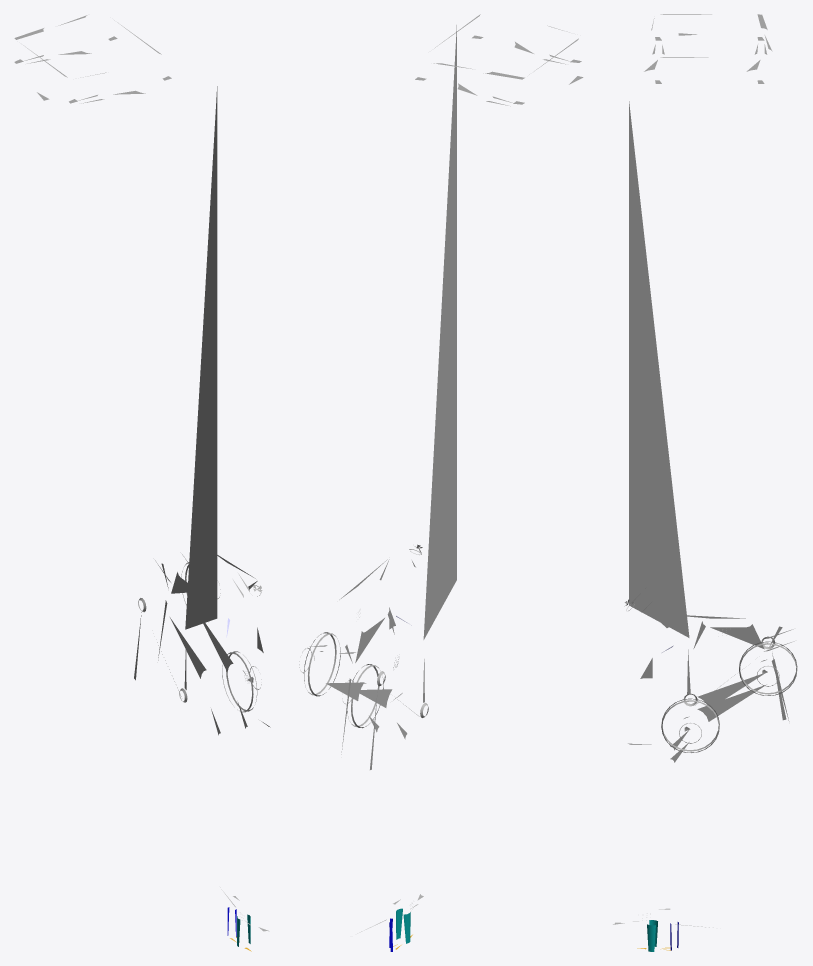
3 views of the same model, side by side, from view 1: azimuth 30°, elevation 25°; view 2: azimuth 150°, elevation 25°; view 3: azimuth 270°, elevation 25° (orthographic). The views are drawn at different scales.
Visible parts, largest first — view 1: F19721000063102000122_001_zb_ub_auflage_22_fa (×2); view 2: F19721000063102000122_001_zb_ub_auflage_22_fa (×2); view 3: F19721000063102000122_001_zb_ub_auflage_22_fa (×2).
Boxes of the visible parts, x1,y1,x2,y2 form: F19721000063102000122_001_zb_ub_auflage_22_fa (×2): [14, 15, 270, 931]; F19721000063102000122_001_zb_ub_auflage_22_fa (×2): [299, 14, 583, 933]; F19721000063102000122_001_zb_ub_auflage_22_fa (×2): [613, 14, 797, 927].
Bounding box in the file's own units: 163 × 128 × 645.
